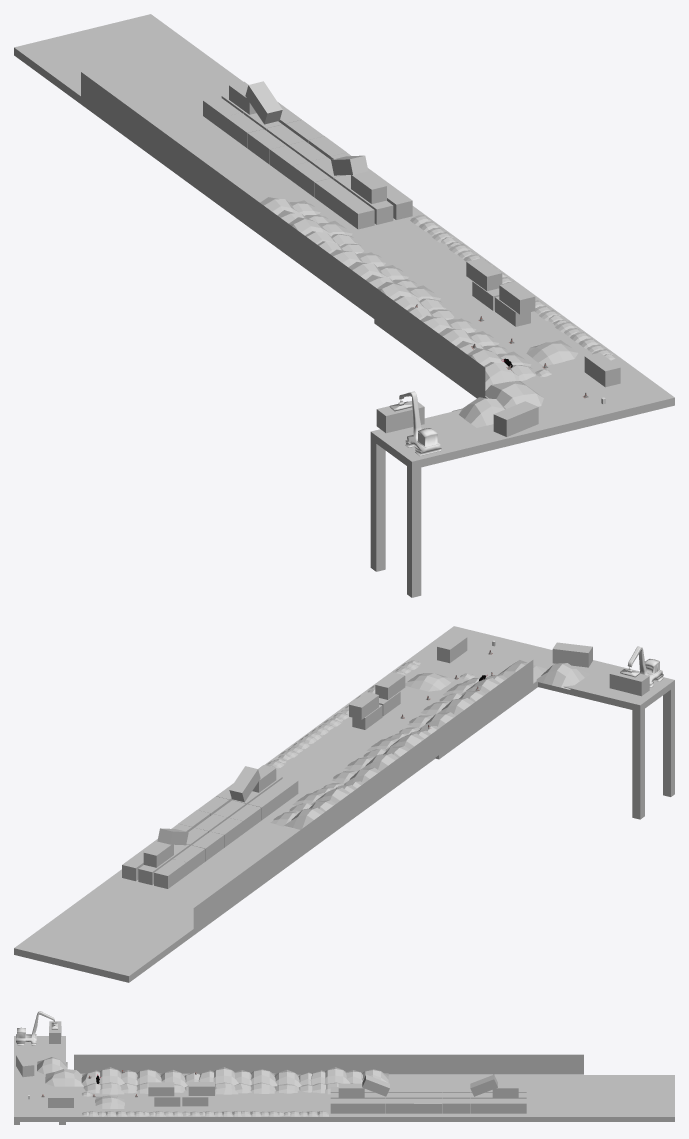
The model's file is JunkYard_2.fbx.
The picture shows the model from 3 angles, top to bottom: view 1: azimuth 30°, elevation 25°; view 2: azimuth 150°, elevation 25°; view 3: azimuth 270°, elevation 25°; orthographic projection. The views are drawn at different scales.
Visible parts, largest first — view 1: Cube, Plane.031, Plane.053, Plane.052, Plane.054, Cube.022, Cube.018, Cube.024, Cube.025, Cube.014, Cube.002, Cube.009 (+7 smaller); view 2: Cube, Plane.054, Plane.052, Plane.053, Plane.031, Cube.022, Cube.018, Cube.024, Cube.025, Cube.014, Cube.009, Plane.024 (+7 smaller); view 3: Cube, Plane.054, Plane.052, Plane.053, Plane.031, Cube.026, Cube.028, Cube.029, Cube.018, Cube.014, Plane.025, Cube.002 (+31 smaller).
Part boxes in pixels (bbox=[...]): Cube: bbox=[14, 14, 674, 597]; Plane.031: bbox=[283, 220, 384, 324]; Plane.053: bbox=[384, 294, 485, 397]; Plane.052: bbox=[182, 146, 282, 250]; Plane.054: bbox=[81, 72, 181, 176]; Cube.022: bbox=[203, 96, 374, 229]; Cube.018: bbox=[245, 81, 368, 175]; Cube.024: bbox=[247, 129, 330, 197]; Cube.025: bbox=[225, 112, 351, 213]; Cube.014: bbox=[229, 81, 386, 203]; Cube.002: bbox=[389, 391, 441, 455]; Cube.009: bbox=[493, 401, 538, 436]; Cube: bbox=[14, 626, 674, 982]; Plane.054: bbox=[193, 846, 278, 934]; Plane.052: bbox=[278, 784, 363, 871]; Plane.053: bbox=[448, 660, 533, 747]; Plane.031: bbox=[363, 722, 448, 809]; Cube.022: bbox=[154, 777, 298, 888]; Cube.018: bbox=[157, 766, 260, 845]; Cube.024: bbox=[192, 804, 261, 861]; Cube.025: bbox=[173, 791, 279, 874]; Cube.014: bbox=[143, 765, 276, 867]; Cube.009: bbox=[552, 642, 592, 667]; Plane.024: bbox=[536, 663, 589, 689]; Cube: bbox=[14, 1036, 674, 1124]; Plane.054: bbox=[456, 1054, 583, 1074]; Plane.052: bbox=[329, 1054, 456, 1074]; Plane.053: bbox=[74, 1054, 201, 1073]; Plane.031: bbox=[201, 1054, 328, 1074]; Cube.026: bbox=[330, 1098, 526, 1113]; Cube.028: bbox=[386, 1098, 470, 1113]; Cube.029: bbox=[358, 1098, 498, 1113]; Cube.018: bbox=[362, 1074, 497, 1096]; Cube.014: bbox=[338, 1083, 518, 1097]; Plane.025: bbox=[45, 1069, 83, 1086]; Cube.002: bbox=[16, 1011, 57, 1045].
Size of the model in its own units: 10661 by 7176 by 36781.
